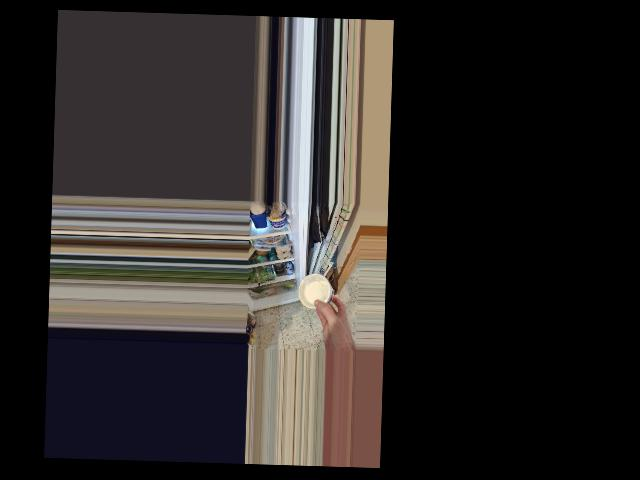cotage: (300, 273, 336, 312)
